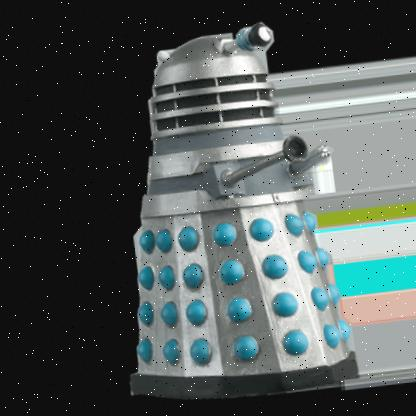dalek: (80, 3, 396, 411)
